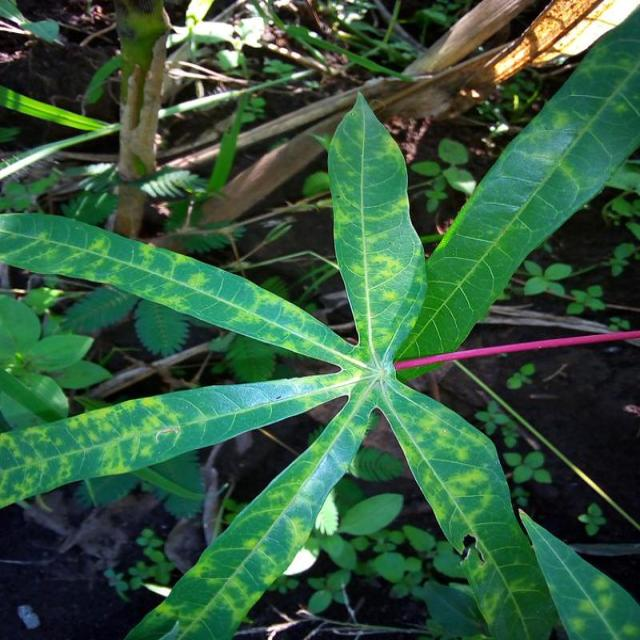cassava leaf: (0, 7, 638, 637), (391, 3, 638, 378)
